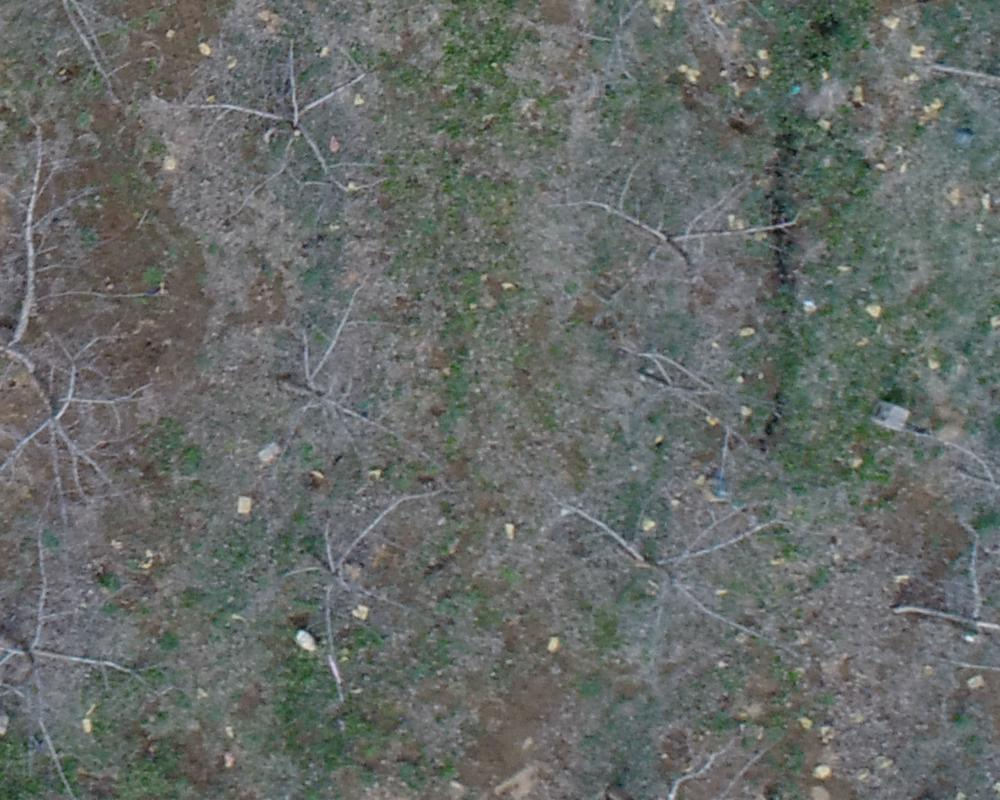apple: (529, 435, 806, 673), (10, 122, 161, 509), (228, 481, 485, 678), (541, 152, 804, 323), (10, 522, 150, 790), (233, 294, 438, 468), (181, 30, 385, 203)
